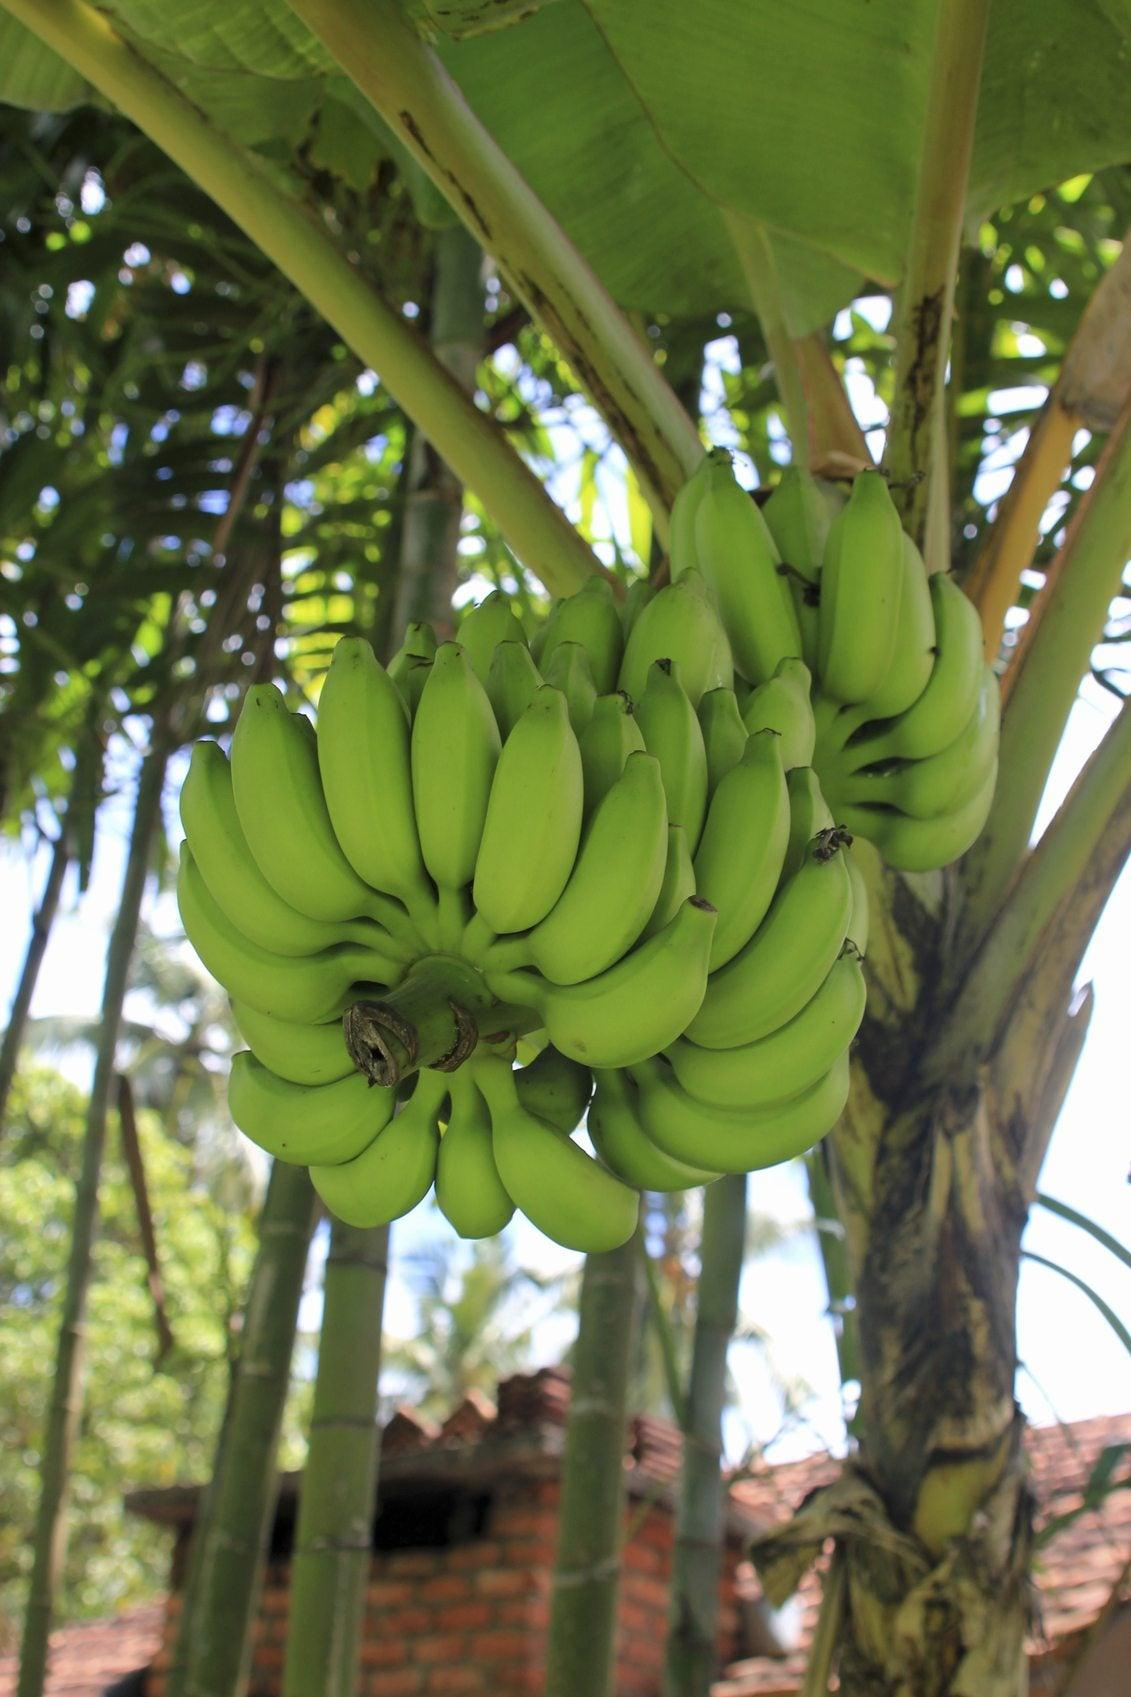banana: (122, 598, 761, 1316)
